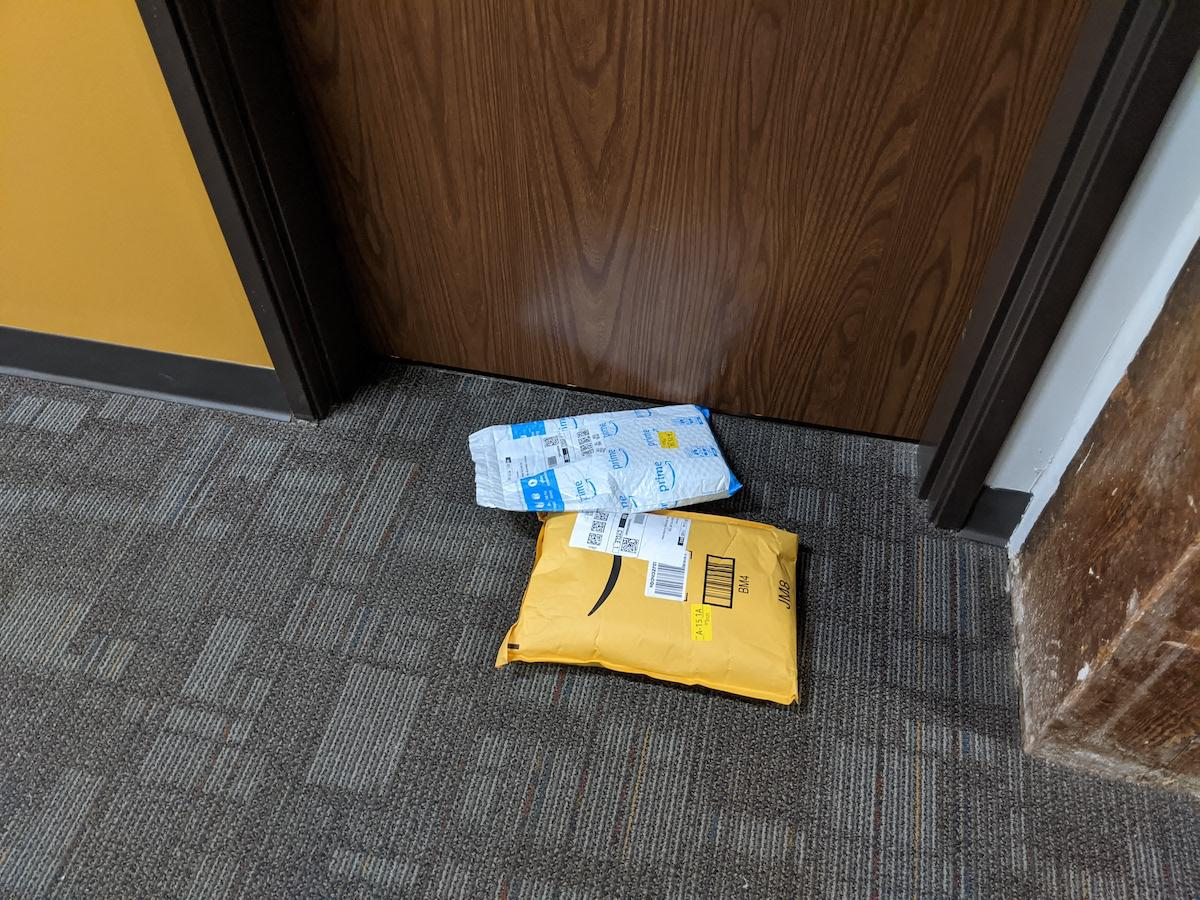package: (490, 489, 816, 725), (469, 392, 747, 524)
